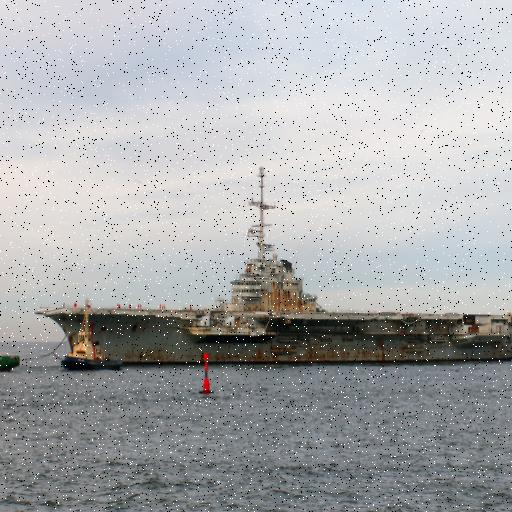Portanaves: (34, 161, 512, 375)
